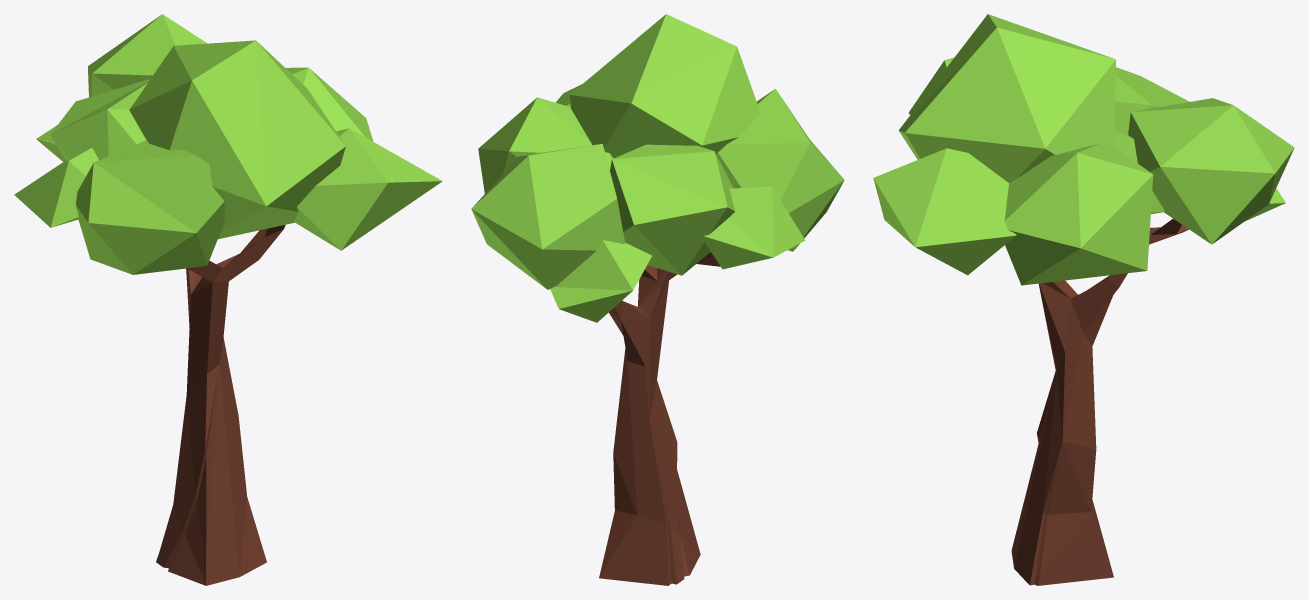
The model's file is Tree_A.fbx.
The picture shows the model from 3 angles, left to right: view 1: azimuth 30°, elevation 25°; view 2: azimuth 150°, elevation 25°; view 3: azimuth 270°, elevation 25°; orthographic projection. The views are drawn at different scales.
Visible parts, largest first — view 1: Tree_A_01.004; view 2: Tree_A_01.004; view 3: Tree_A_01.004.
Part boxes in pixels (x1=…): Tree_A_01.004: x1=14, y1=14, x2=442, y2=585; Tree_A_01.004: x1=471, y1=14, x2=844, y2=585; Tree_A_01.004: x1=873, y1=14, x2=1294, y2=585.
Size of the model in its own units: 427 by 673 by 472.
